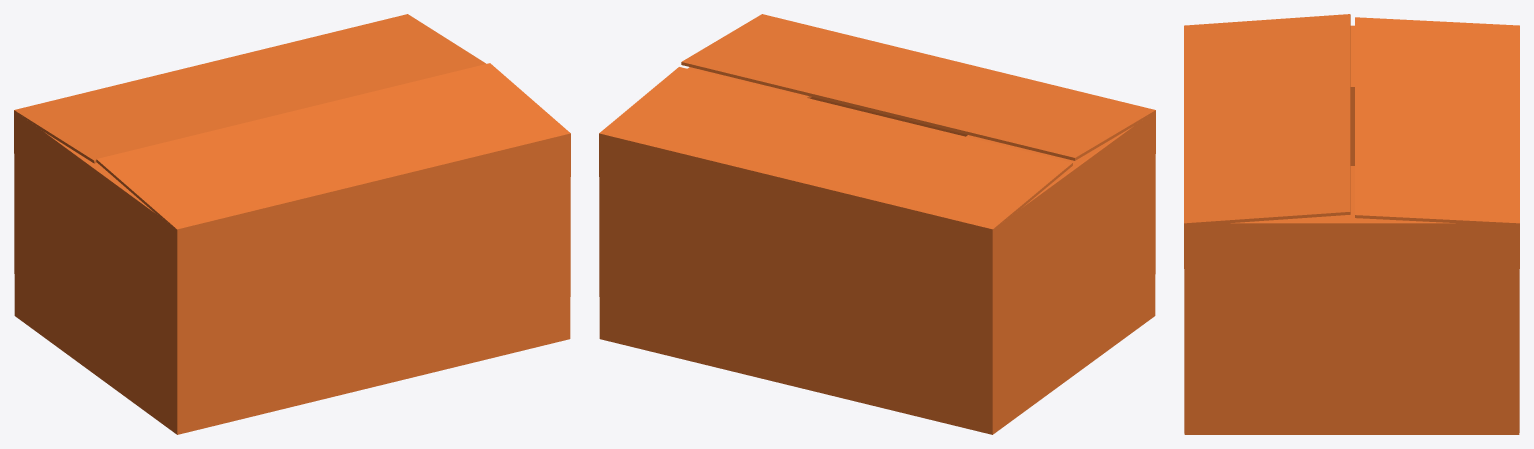
File: closed box.obj
3 renders of one model, left to right at view 1: azimuth 30°, elevation 25°; view 2: azimuth 150°, elevation 25°; view 3: azimuth 270°, elevation 25°, orthographic. The views are drawn at different scales.
Visible parts, largest first — view 1: Plane.005; view 2: Plane.005; view 3: Plane.005.
Boxes of the visible parts, x1,y1,x2,y2 form: Plane.005: (14,14,570,434); Plane.005: (599,14,1155,434); Plane.005: (1184,14,1519,434).
Bounding box in the file's own units: 0.3296 × 0.1735 × 0.2365.
